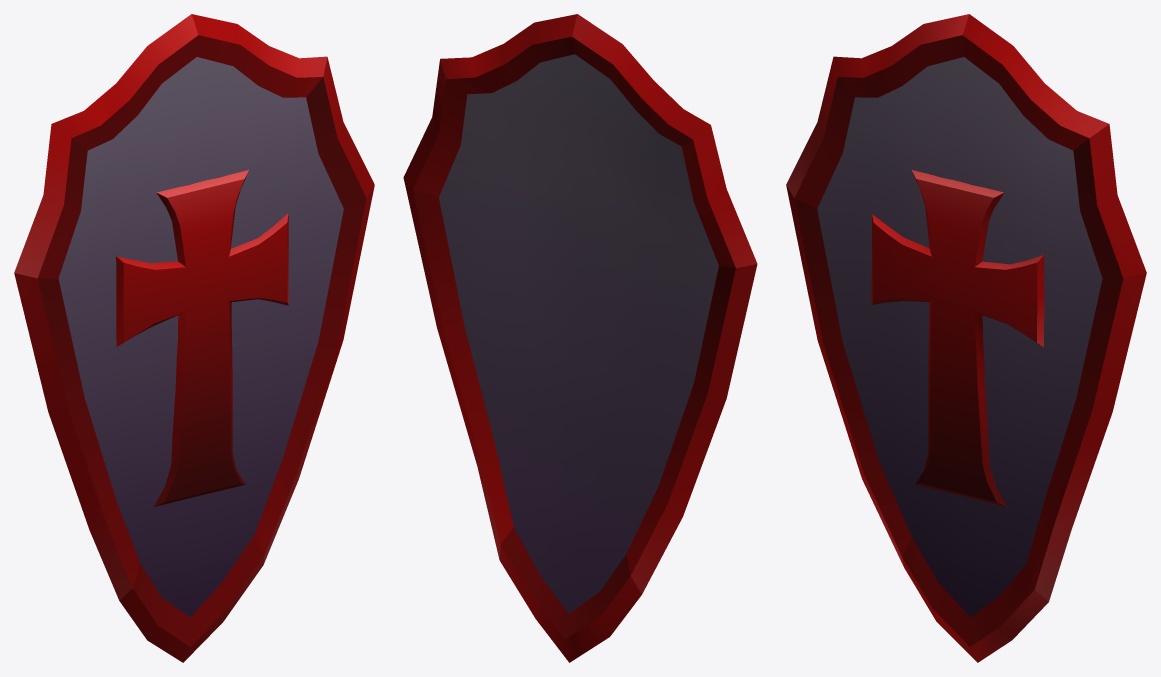
The model's file is Shield1h_16.fbx.
3 views of the same model, side by side, from view 1: azimuth 30°, elevation 25°; view 2: azimuth 150°, elevation 25°; view 3: azimuth 330°, elevation 25° (orthographic).
Visible parts, largest first — view 1: Shield1h_16; view 2: Shield1h_16; view 3: Shield1h_16.
Boxes of the visible parts, x1,y1,x2,y2 form: Shield1h_16: [14, 14, 374, 662]; Shield1h_16: [403, 14, 757, 662]; Shield1h_16: [786, 14, 1146, 662].
Size of the model in its own units: 52.15 by 90.5 by 7.44.
